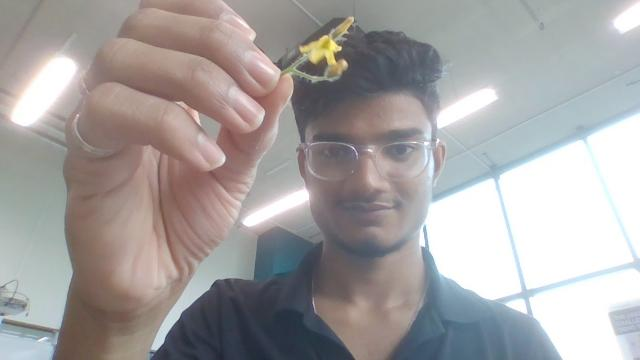Anthesis: (300, 34, 343, 69), (329, 16, 354, 41), (326, 59, 349, 81), (324, 59, 347, 80)
